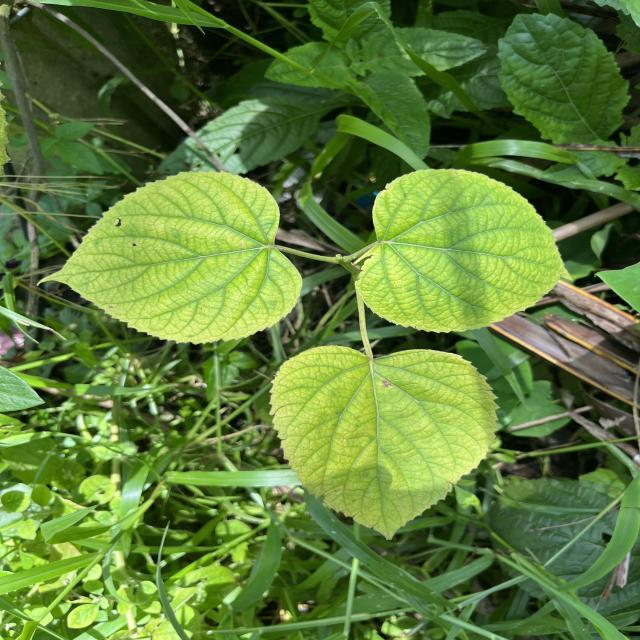Clerodendrum infortunatum: (34, 168, 304, 347), (266, 344, 502, 542), (352, 166, 574, 335)
